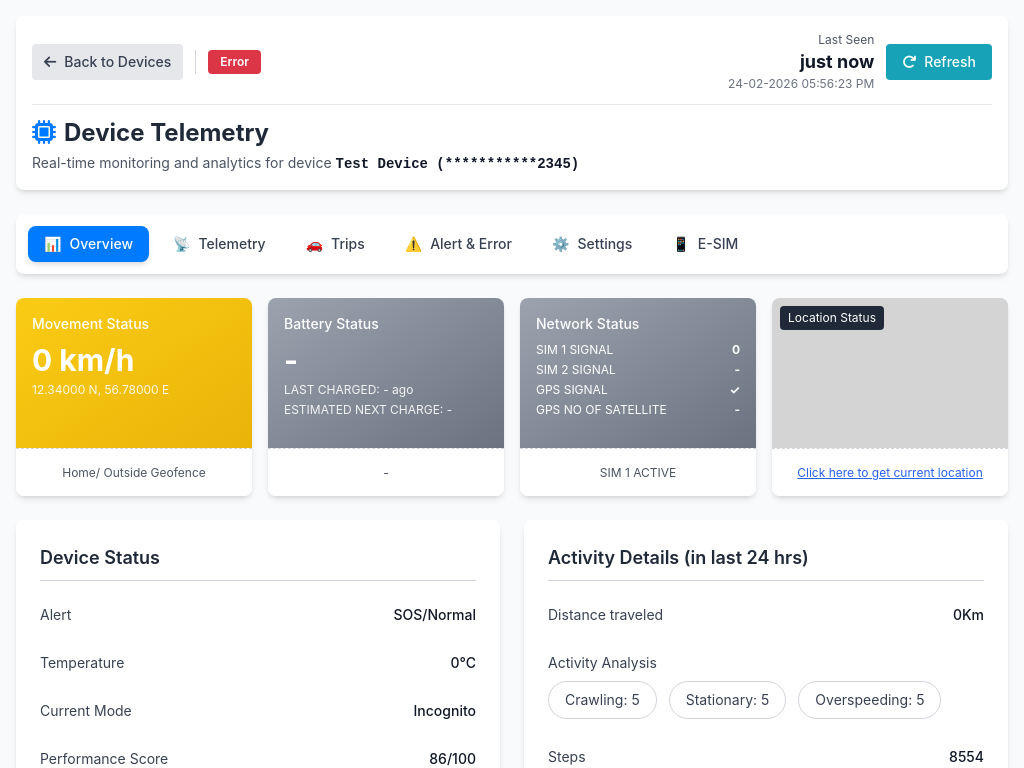
Test: Preservation Property Tests: Other Settings Tab Features › Property 2.2: Intervals section displays settings correctly
The image size is (1024, 768).
Click the button "⚙️ Settings". click: x=592, y=244
box: [536, 226, 648, 262]
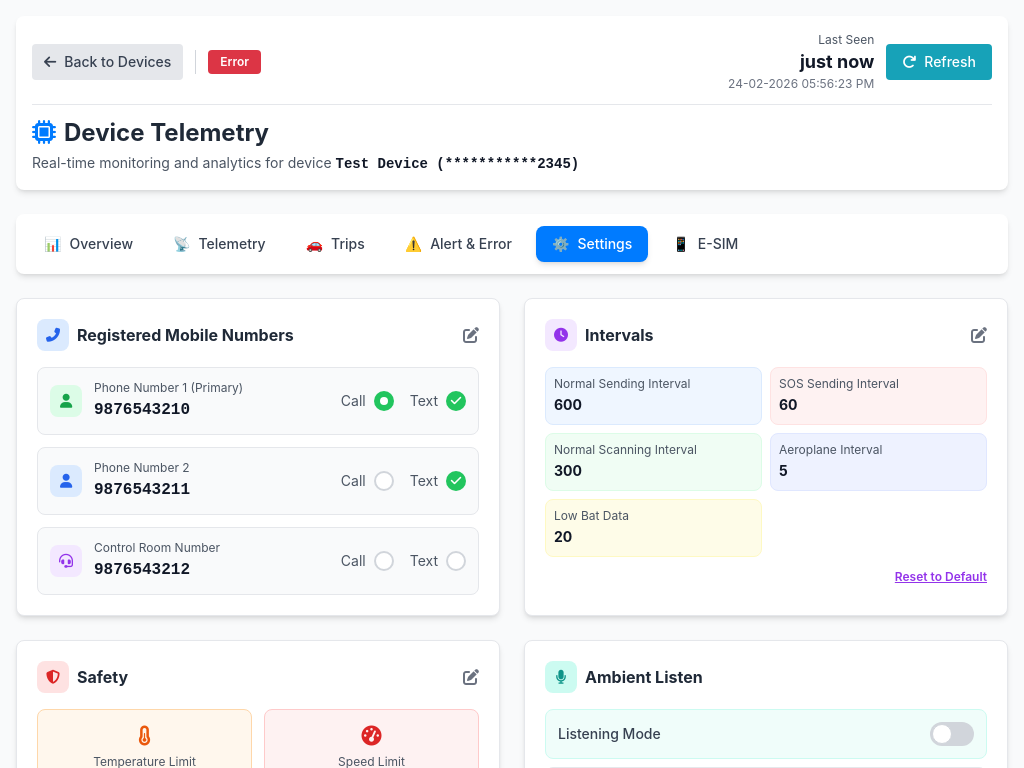
Expected: the heading "Intervals" is shown, [545, 319, 654, 351]
Expected: the text "60" is shown, [779, 396, 798, 413]
Expected: the text "20" is shown, [554, 528, 572, 545]
